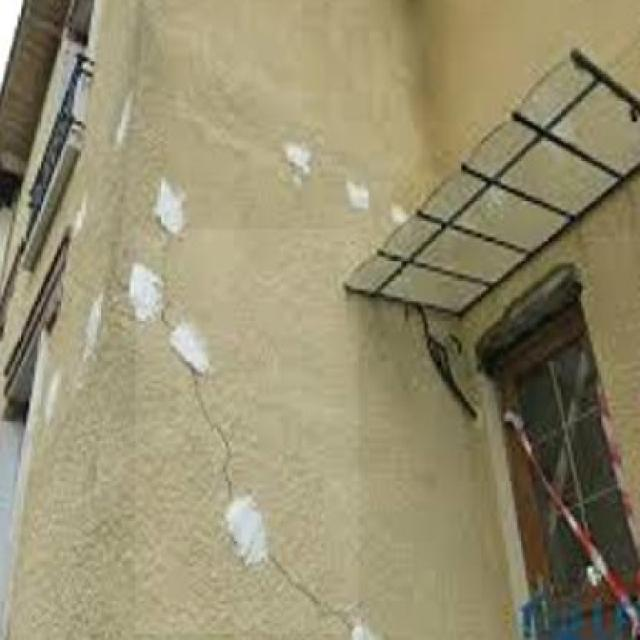Crack: (148, 237, 356, 628)
